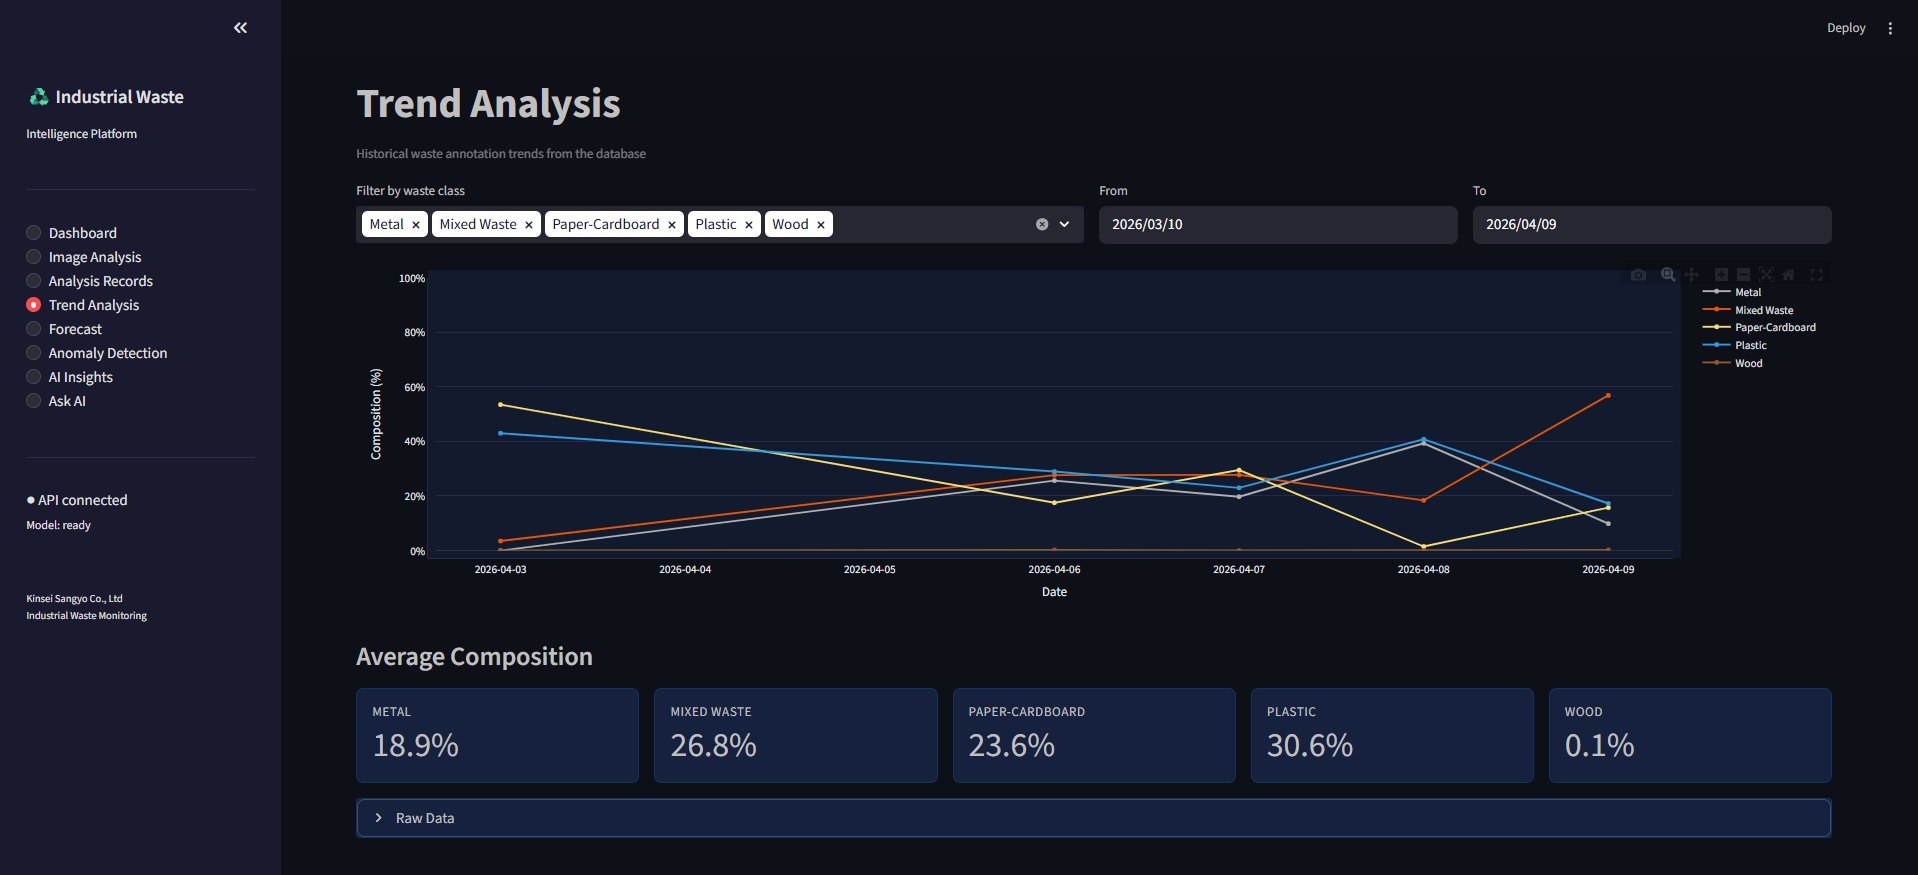

Layout of this report page (visuals, bound fields, positions):
{"tool":"powerbi","page":{"name":"Page 1","canvas":[1280,720],"ordinal":0},"visuals":[{"type":"lineChart","fields":{"Y":["Sum(daily_waste_summary.annotation_count)"],"Series":["daily_waste_summary.class_name"],"Category":["daily_waste_summary.date"]},"box":[0,0,745.7,505.7],"z":0},{"type":"slicer","fields":{"Values":["daily_waste_summary.date"]},"box":[1055,8.3,225,93.3],"z":1000},{"type":"donutChart","fields":{"Category":["daily_waste_summary.class_name"],"Y":["Sum(daily_waste_summary.annotation_count)"]},"box":[0,505.7,745.7,214.3],"z":2000},{"type":"card","fields":{"Values":["Sum(daily_waste_summary.annotation_count)"]},"box":[745,0,310,108.3],"z":3000},{"type":"barChart","fields":{"Y":["Sum(weekly_waste_summary.annotation_count)"],"Category":["weekly_waste_summary.week_start"],"Series":["weekly_waste_summary.class_name"]},"box":[745,108.3,535,611.7],"z":4000}]}

Visuals, with their boxes on the page's 1280x720 design canvas (x1, y1, x2, y2). These are canvas units, not pixel positions in the 1918x875 screenshot, which may show the page scaled, cropped or inside an application window:
lineChart - Sum(daily_waste_summary.annotation_count) x daily_waste_summary.class_name: 0, 0, 746, 506
slicer - daily_waste_summary.date: 1055, 8, 1280, 102
donutChart - daily_waste_summary.class_name x Sum(daily_waste_summary.annotation_count): 0, 506, 746, 720
card - Sum(daily_waste_summary.annotation_count): 745, 0, 1055, 108
barChart - Sum(weekly_waste_summary.annotation_count) x weekly_waste_summary.week_start: 745, 108, 1280, 720
